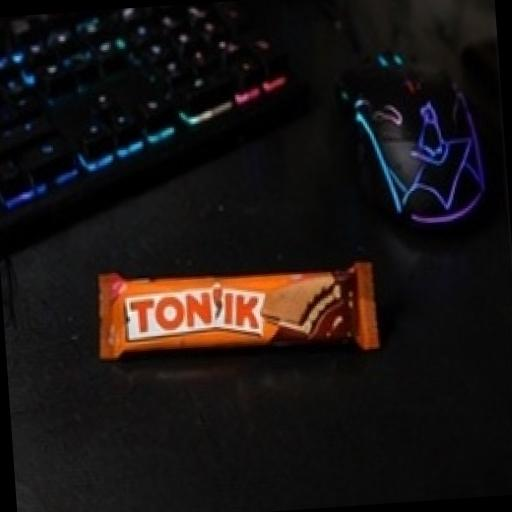tonik: (6, 155, 409, 438)
